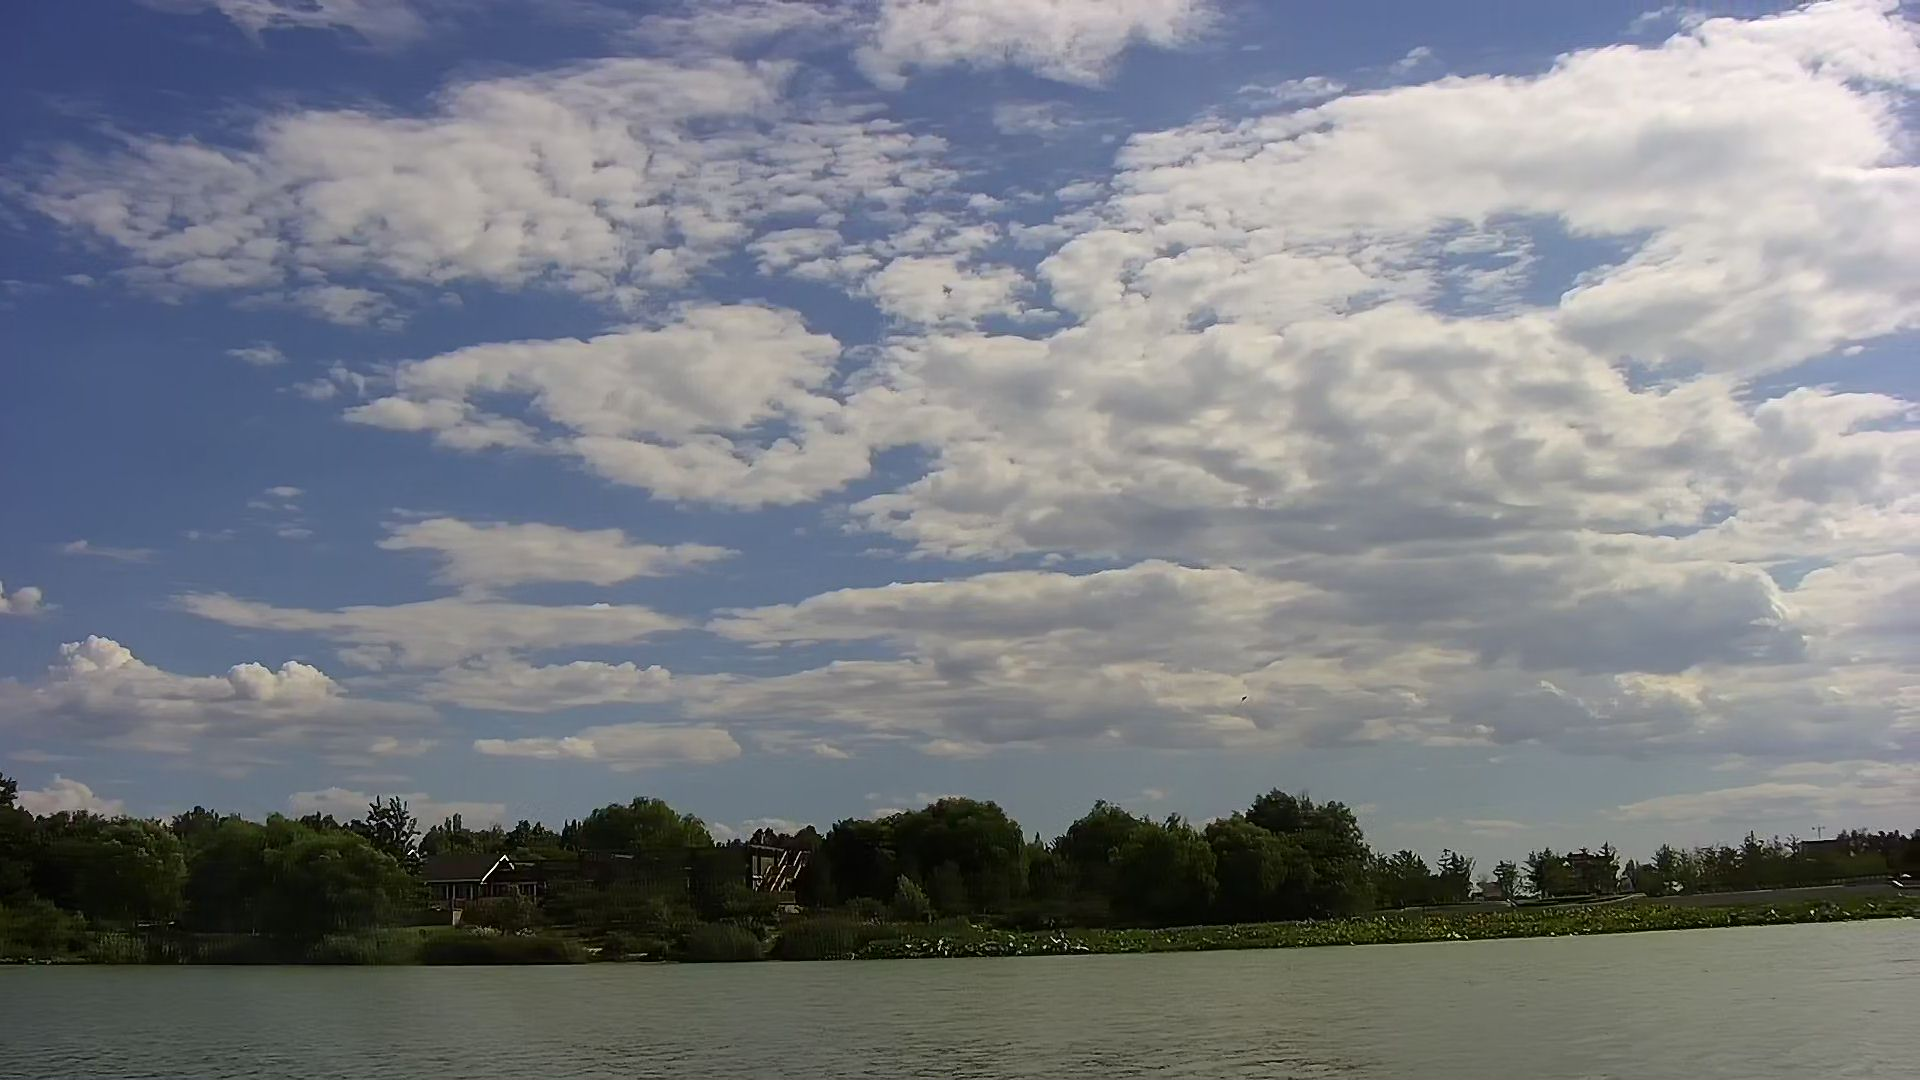grass: (947, 902, 1915, 952)
